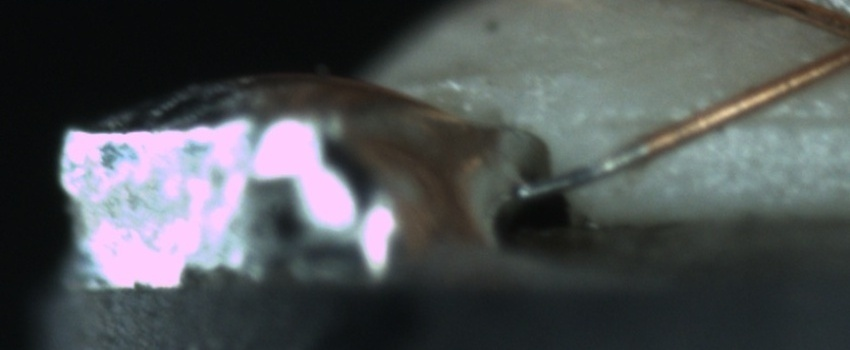CL: (809, 2, 850, 85)
DL: (607, 87, 847, 154)
TS: (521, 142, 650, 200)
